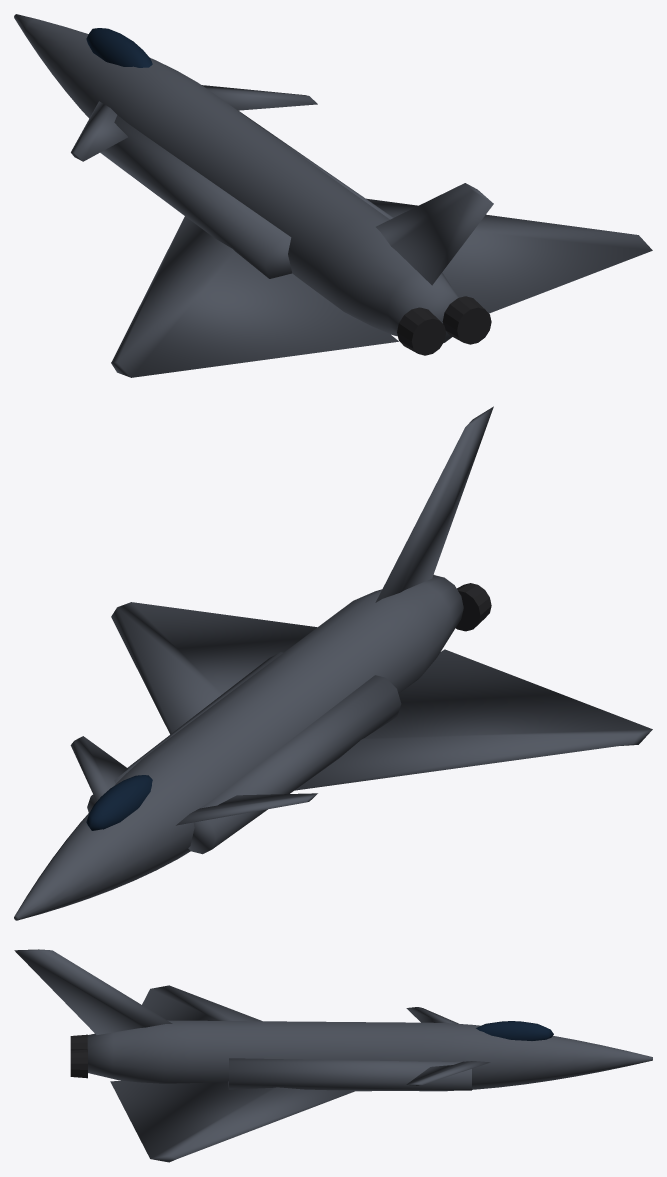
Rendered from rafale.obj.
The picture shows the model from 3 angles, top to bottom: view 1: azimuth 30°, elevation 25°; view 2: azimuth 150°, elevation 25°; view 3: azimuth 270°, elevation 25°; orthographic projection. The views are drawn at different scales.
Parts seen in each view (by area): view 1: Body, Detail, Canopy; view 2: Body, Canopy, Detail; view 3: Body, Canopy, Detail.
Part boxes in pixels (box(x1,y1,x2,y2)): Body: box(14, 14, 652, 377); Detail: box(397, 296, 491, 355); Canopy: box(86, 28, 152, 67); Body: box(14, 406, 652, 920); Canopy: box(86, 775, 152, 830); Detail: box(433, 574, 491, 631); Body: box(14, 949, 652, 1162); Canopy: box(476, 1021, 553, 1040); Detail: box(70, 1034, 87, 1078).
Size of the model in its own units: 10.9 by 4.11 by 17.29.
